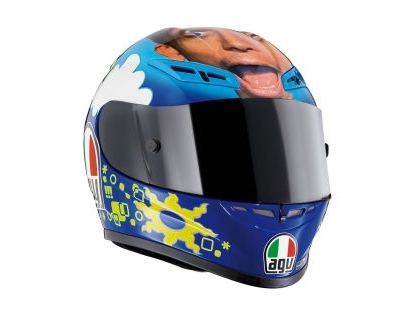helmet: (98, 22, 328, 267)
